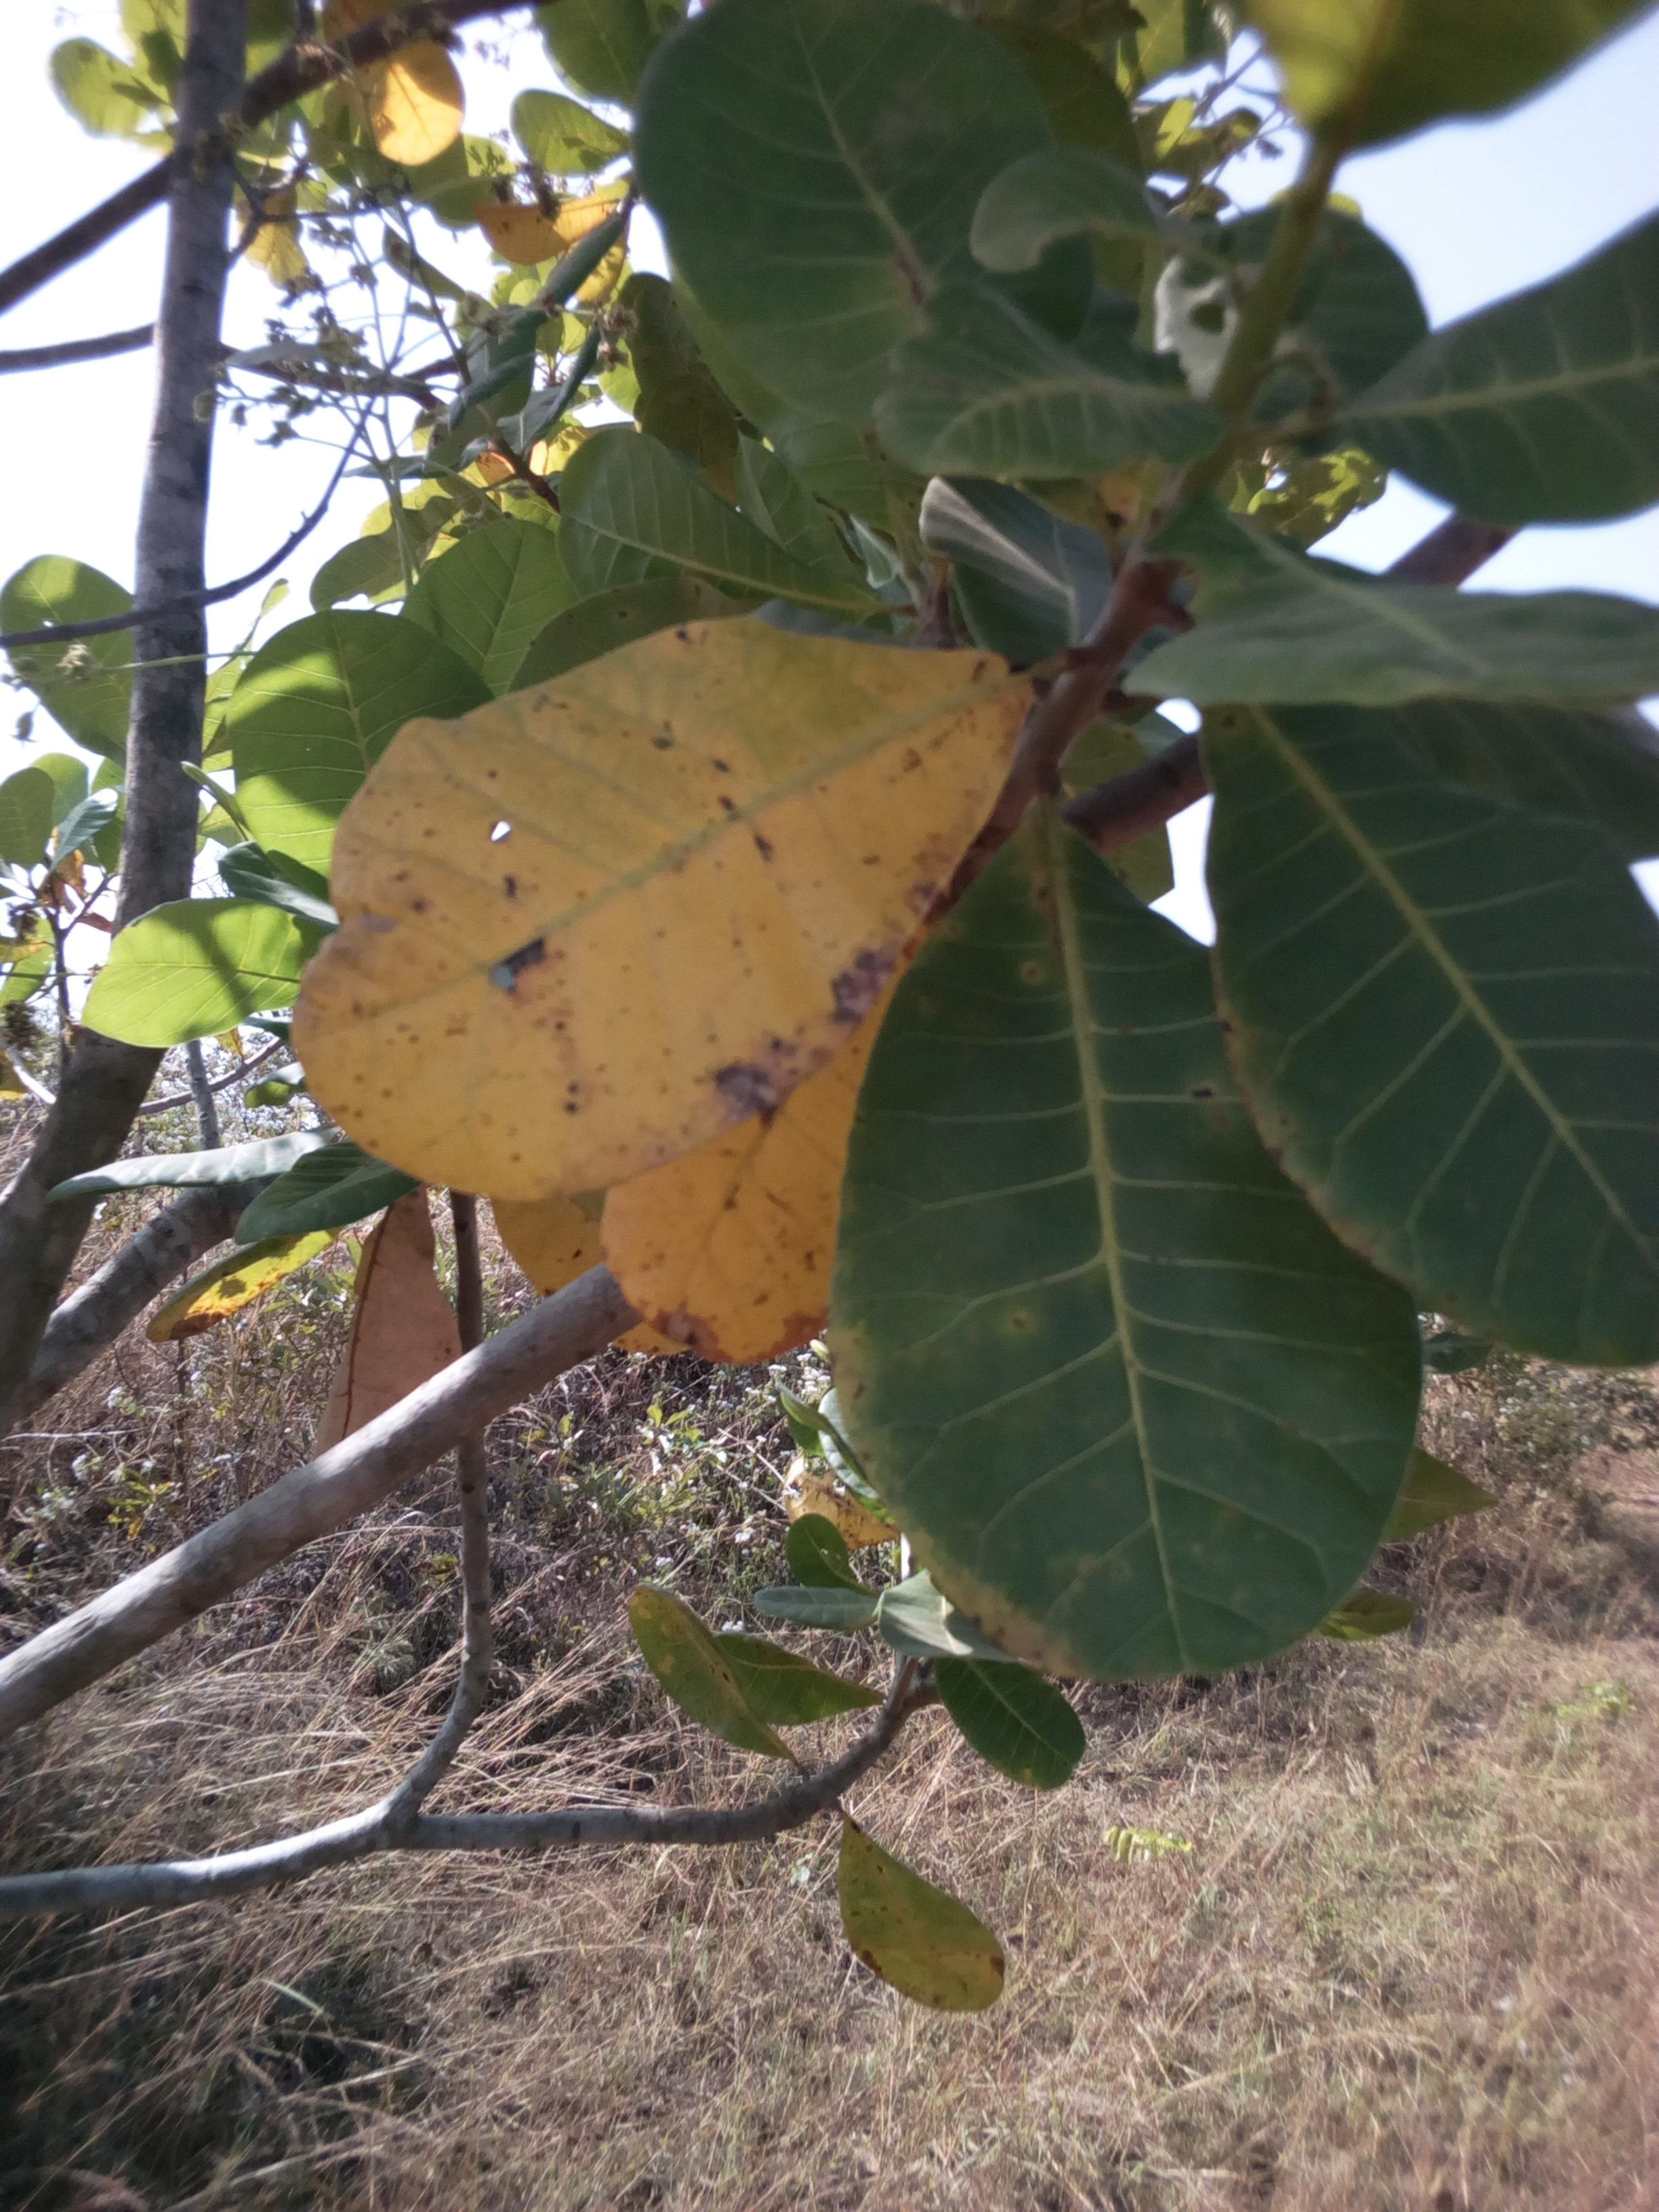Anthracnose: (284, 618, 1063, 1188)
